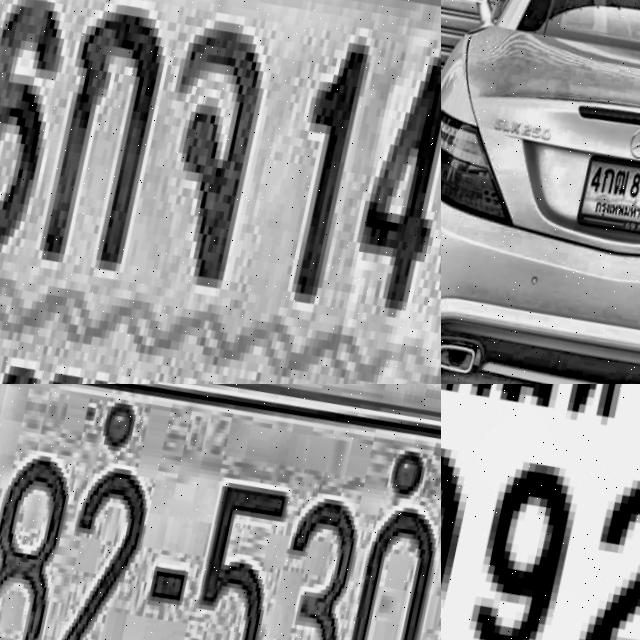license-plate: (0, 0, 441, 384), (0, 384, 441, 640), (441, 384, 640, 640), (574, 151, 640, 247)
